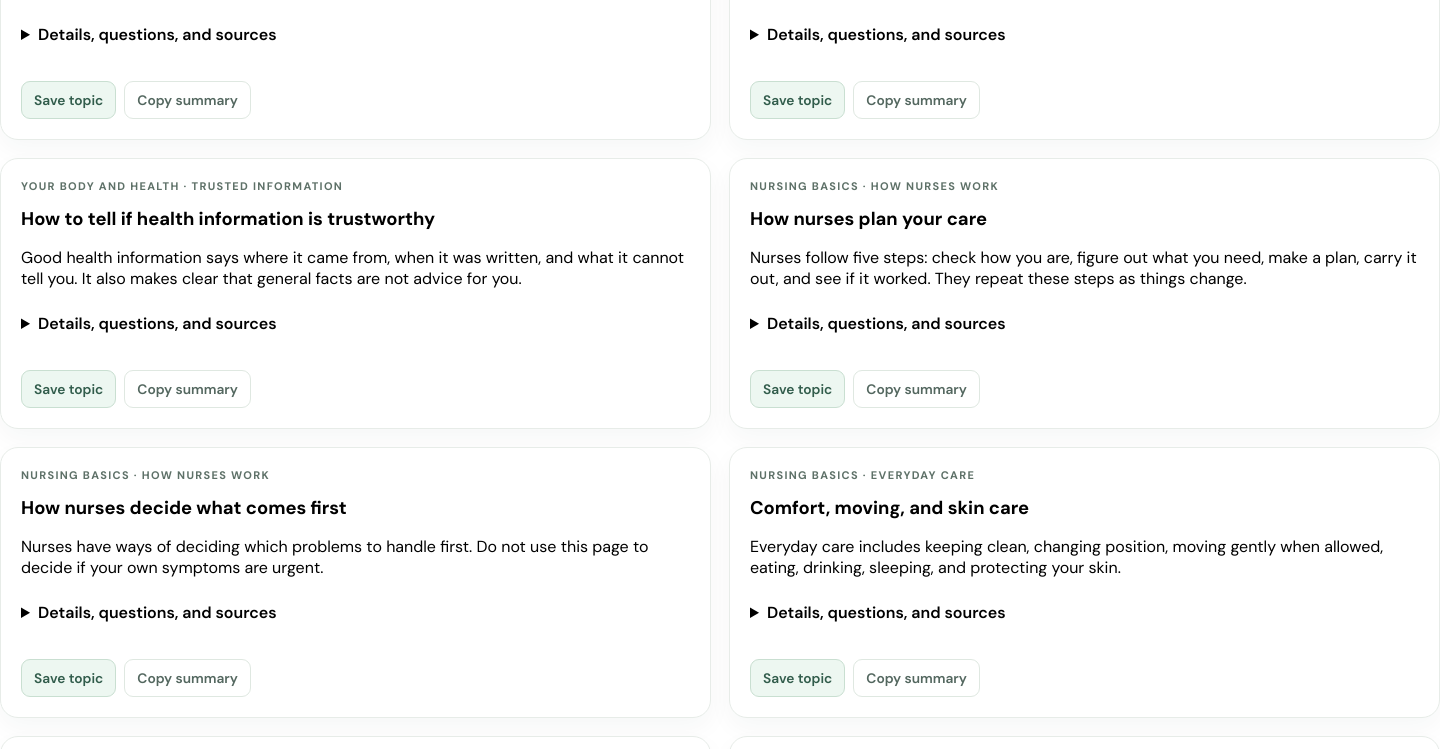
Test: saves topics for the session and filters to saved topics
(page scrolled)
Click the button with aria-label "Save topic How nurses plan your care".
click(798, 389)  # box [750,370,845,408]
(page scrolled)
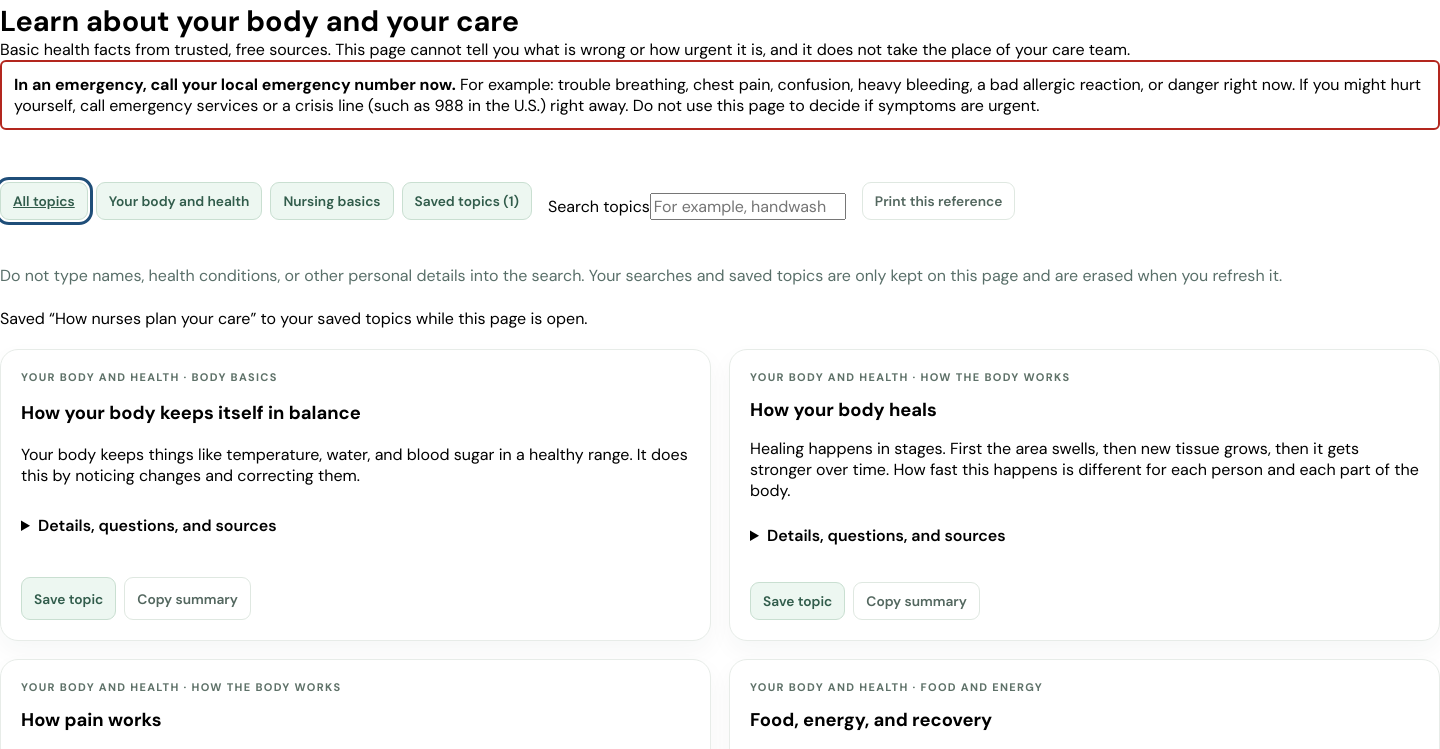
expect the message shows "Saved “How nurses plan your care”": met, box [0,308,588,329]
Click the button "Saved topics (1)".
click(467, 200)  # box [402,182,532,220]
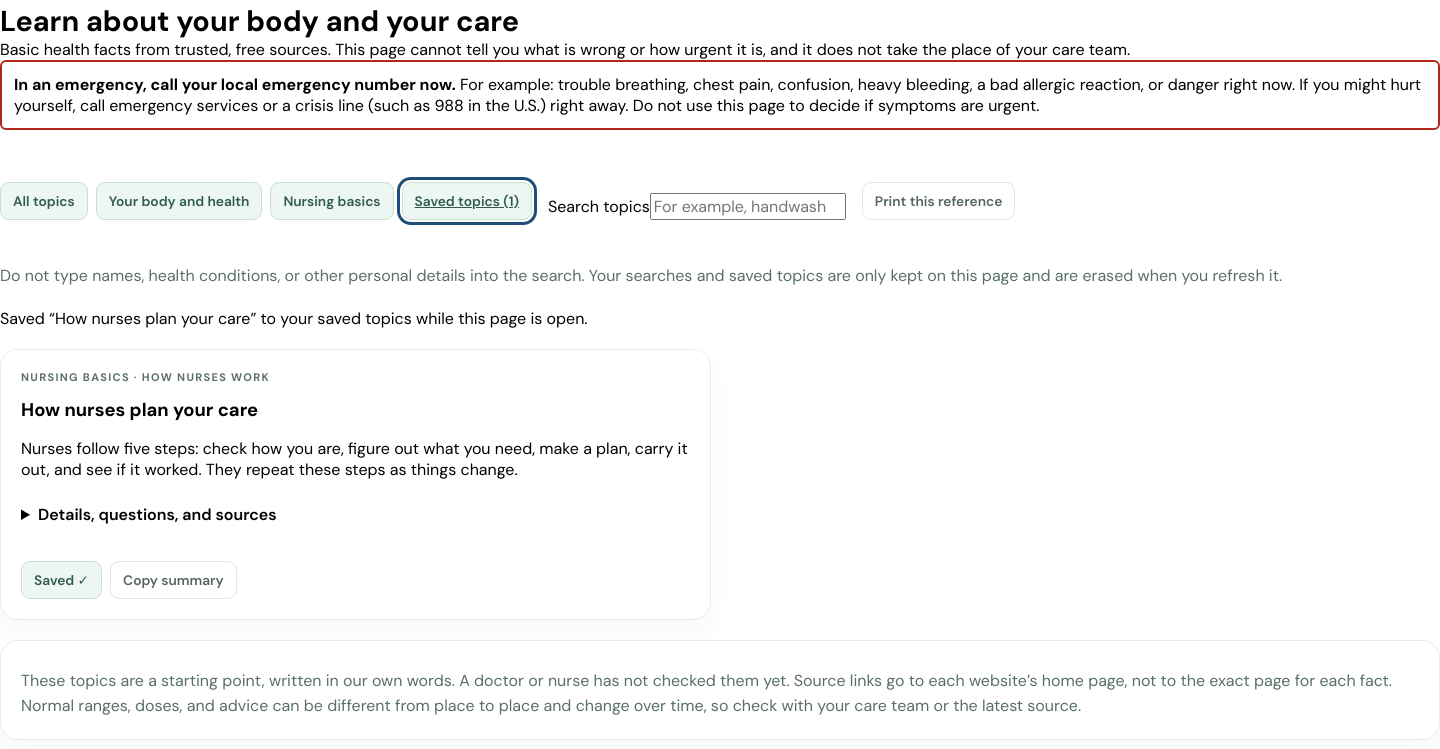
expect the heading "How nurses plan your care" is shown: met, box [21,398,258,422]
expect the heading "How your body keeps itself in balance" is gone: met
Click the button with aria-label "Unsave topic How nurses plan your care".
click(62, 580)  # box [21,561,102,599]
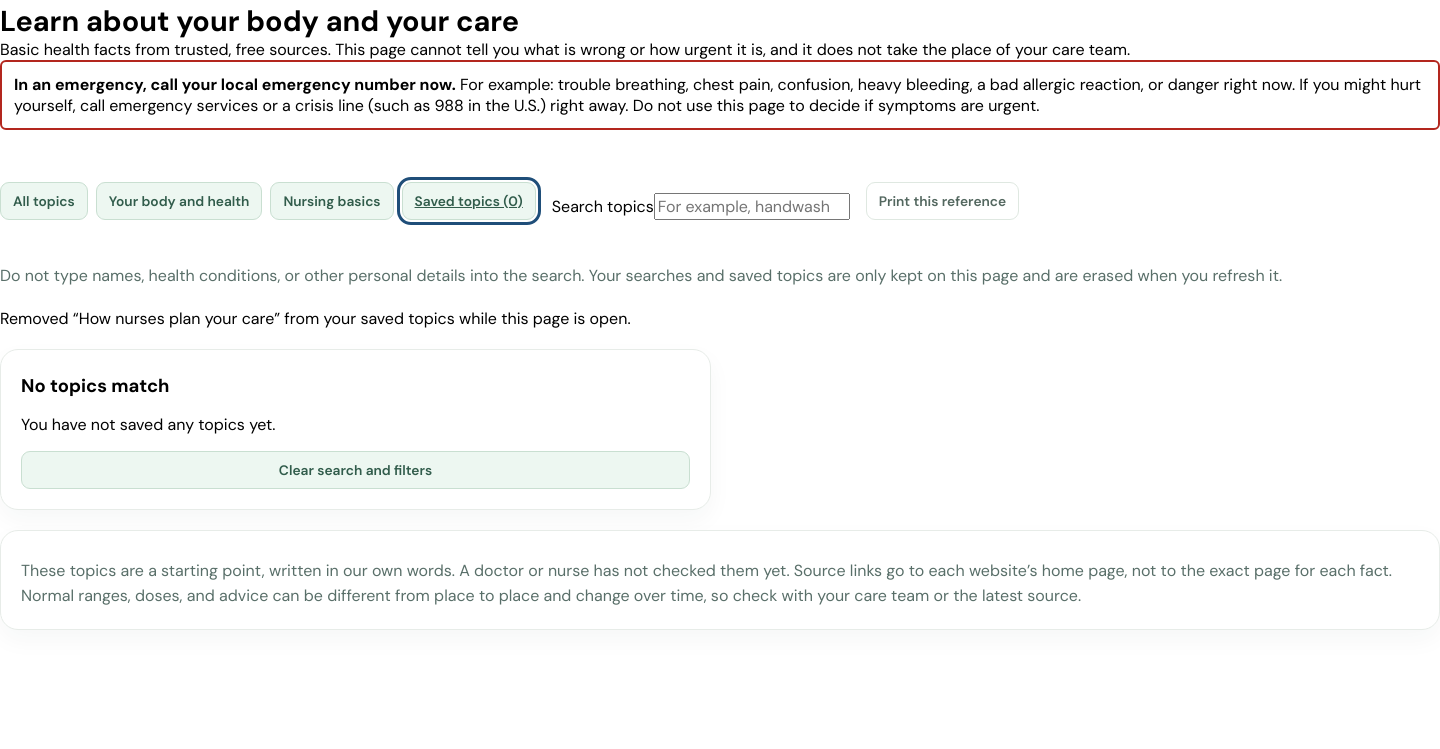
expect the text "You have not saved any topics yet." is shown: met, box [21,414,276,435]
